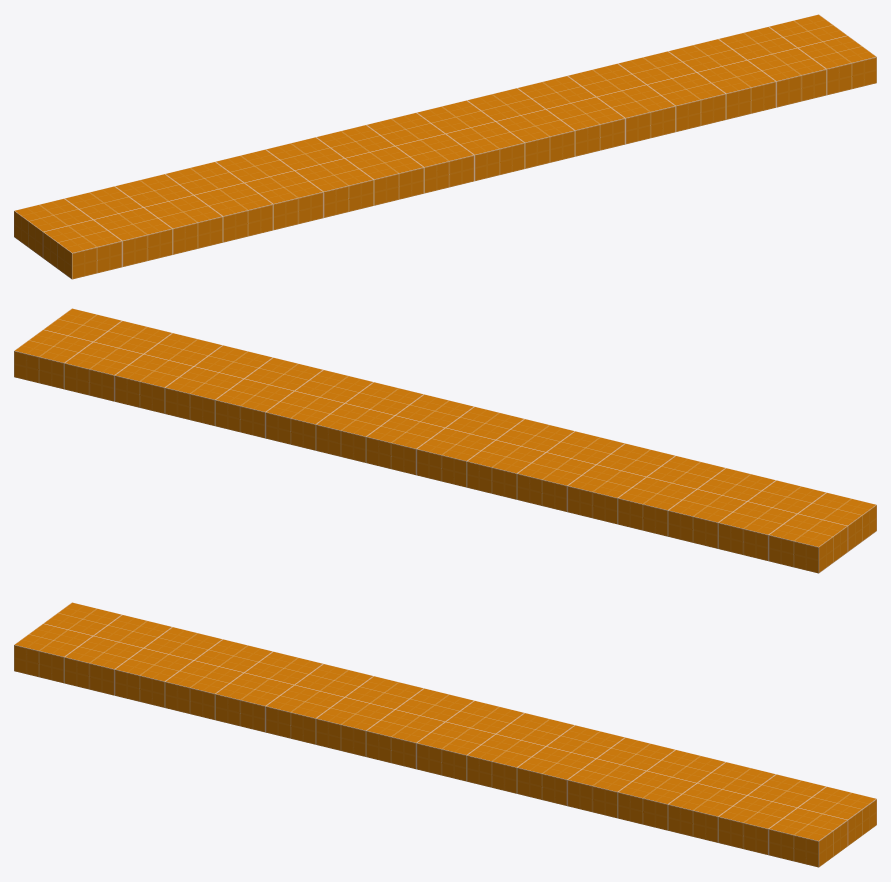
Rendered from Plate2_16x2.obj.
3 views of the same model, one above another, from view 1: azimuth 30°, elevation 25°; view 2: azimuth 150°, elevation 25°; view 3: azimuth 330°, elevation 25° (orthographic).
Visible parts, largest first — view 1: Plate2_16x2_Cube.315; view 2: Plate2_16x2_Cube.315; view 3: Plate2_16x2_Cube.315.
Boxes of the visible parts, x1,y1,x2,y2 form: Plate2_16x2_Cube.315: [14, 14, 876, 279]; Plate2_16x2_Cube.315: [14, 308, 876, 573]; Plate2_16x2_Cube.315: [14, 602, 876, 867].
Size of the model in its own units: 16 by 0.5 by 2.
Materials: 1 (1 with a texture image).
